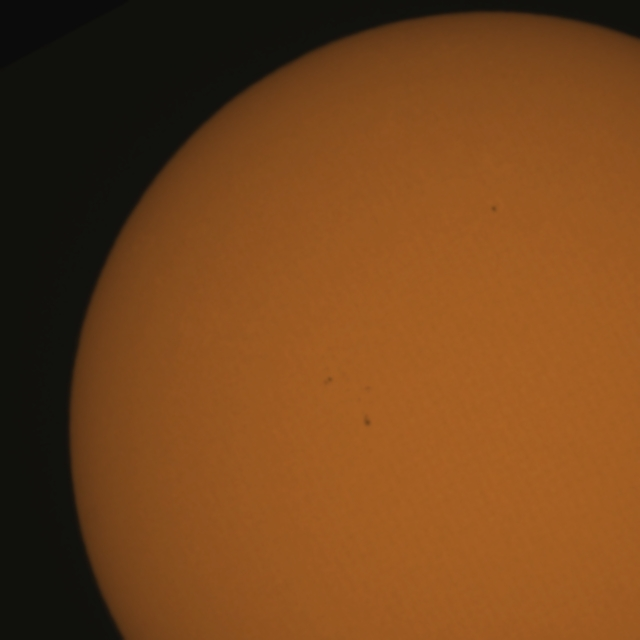sunspot: (361, 414, 373, 429), (322, 374, 334, 388), (490, 204, 498, 214)
